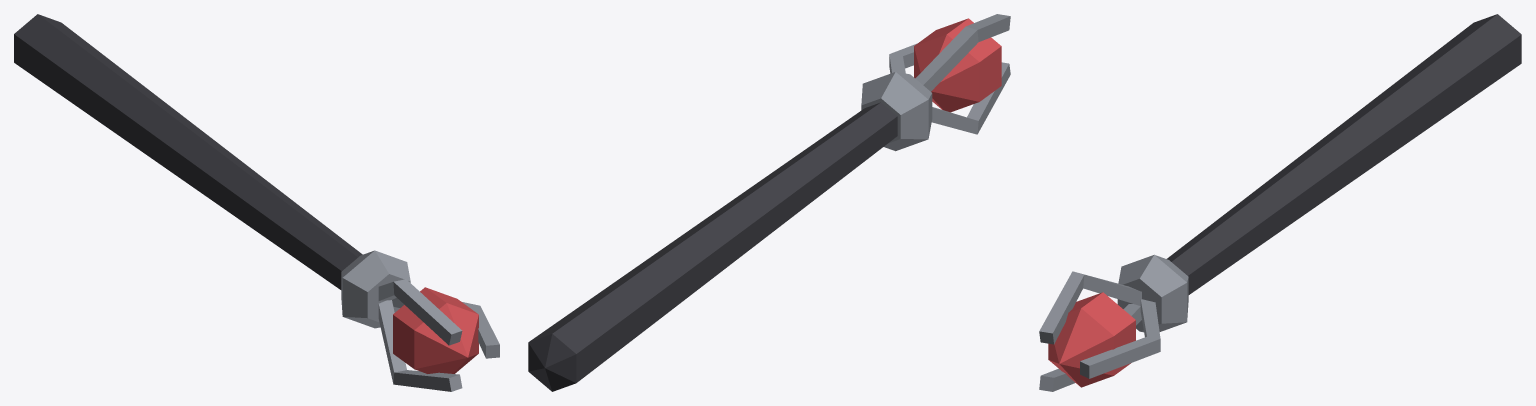
The model's file is emberwand.glb.
The picture shows the model from 3 angles, left to right: view 1: azimuth 30°, elevation 25°; view 2: azimuth 150°, elevation 25°; view 3: azimuth 330°, elevation 25°; orthographic projection.
Visible parts, largest first — view 1: emberwand; view 2: emberwand; view 3: emberwand.
Part boxes in pixels (<box>): emberwand: <box>14,14,499,391</box>; emberwand: <box>528,14,1010,391</box>; emberwand: <box>1039,14,1521,391</box>.
Size of the model in its own units: 0.0709 by 0.0791 by 0.6122.
